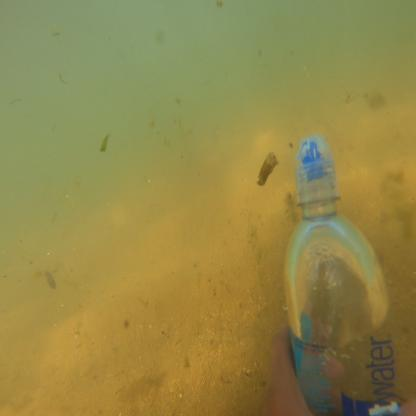Rác: (284, 132, 404, 414)
